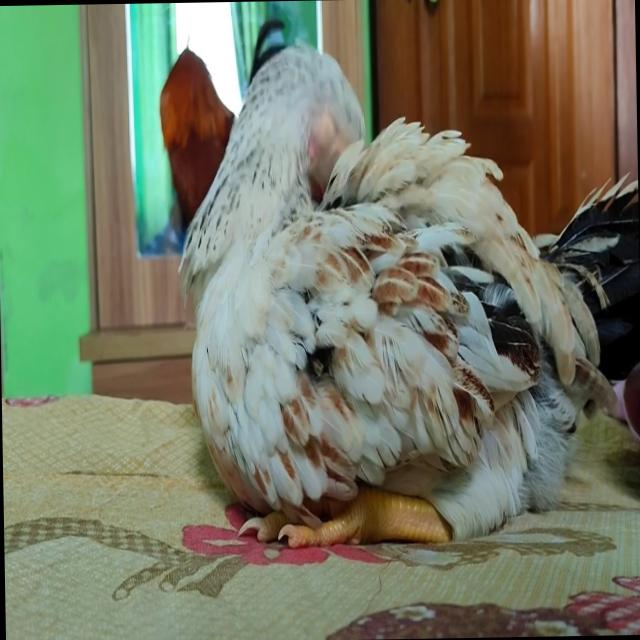self preening: (177, 39, 628, 554)
